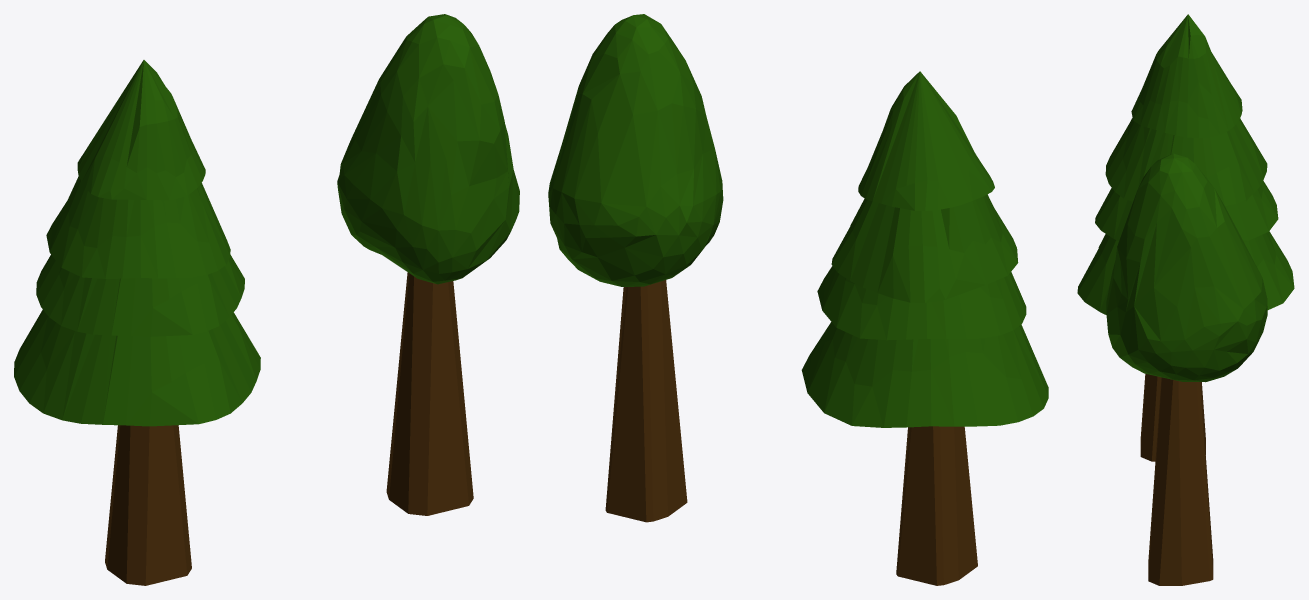
The model's file is box tree.glb.
3 views of the same model, side by side, from view 1: azimuth 30°, elevation 25°; view 2: azimuth 150°, elevation 25°; view 3: azimuth 270°, elevation 25° (orthographic). The views are drawn at different scales.
Parts seen in each view (by area): view 1: Icosphere, Icosphere.010, Cube, Icosphere.008, Cube.003, Icosphere.009, Icosphere.007; view 2: Icosphere, Icosphere.010, Cube, Icosphere.008, Icosphere.007, Cube.003, Icosphere.009; view 3: Icosphere, Cube, Icosphere.007, Icosphere.008, Icosphere.010, Icosphere.009, Cube.003.
Boxes of the visible parts, x1,y1,x2,y2 form: Icosphere: (337,14,519,284); Icosphere.010: (14,309,260,426); Cube: (386,272,473,515); Icosphere.008: (46,176,230,278); Cube.003: (105,425,191,585); Icosphere.009: (36,254,244,336); Icosphere.007: (77,60,205,200); Icosphere: (548,14,723,286); Icosphere.010: (801,322,1048,427); Cube: (605,280,687,522); Icosphere.008: (831,194,1018,302); Icosphere.007: (858,71,994,210); Cube.003: (896,426,977,585); Icosphere.009: (817,266,1026,340); Icosphere: (1106,153,1267,382); Cube: (1148,377,1213,585); Icosphere.007: (1131,14,1242,137); Icosphere.008: (1105,118,1267,206); Icosphere.010: (1077,231,1294,314); Icosphere.009: (1095,180,1278,242); Cube.003: (1140,374,1205,461).
Size of the model in its own units: 13.14 by 13.36 by 5.99.
